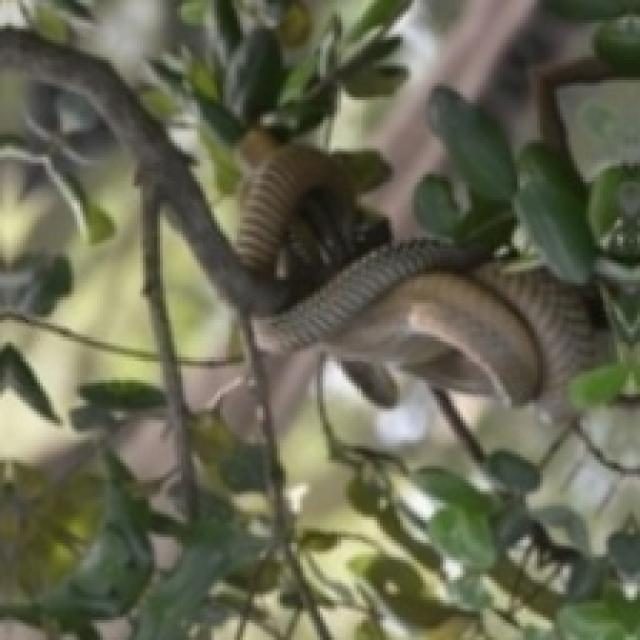king cobra: (254, 240, 589, 414), (237, 149, 337, 271)
